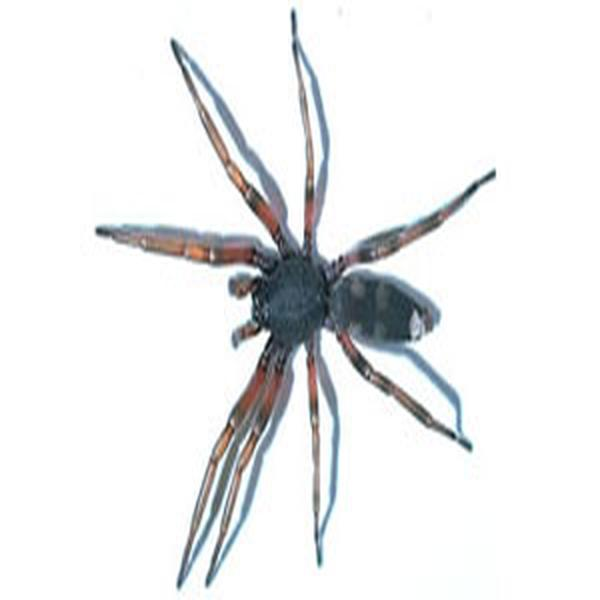White-Tailed Spider: (116, 14, 488, 572)
